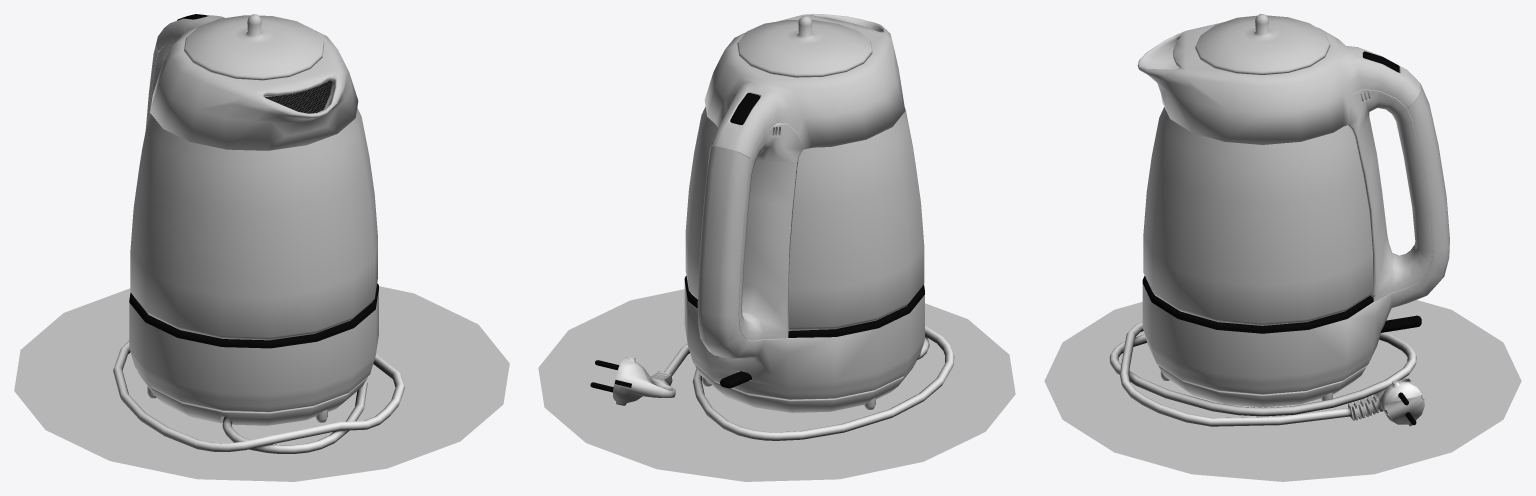
File: Kettle.obj
3 renders of one model, left to right at view 1: azimuth 30°, elevation 25°; view 2: azimuth 150°, elevation 25°; view 3: azimuth 270°, elevation 25°, orthographic. The views are drawn at different scales.
Parts seen in each view (by area): view 1: Glass, Floor, Body, Cap, Cable, Stand, Ring, Filter; view 2: Body, Floor, Glass, Cap, Cable, Stand, Ring, Switchs; view 3: Body, Floor, Glass, Cable, Cap, Stand, Ring, Switchs.
Boxes of the visible parts, box(x1,y1,x2,y2) form: Glass: box(130, 108, 377, 340); Floor: box(14, 286, 509, 481); Body: box(129, 15, 378, 412); Cap: box(184, 14, 324, 80); Cable: box(113, 340, 404, 453); Stand: box(137, 371, 367, 425); Ring: box(129, 283, 378, 348); Filter: box(265, 80, 334, 113); Body: box(684, 14, 924, 399); Floor: box(538, 289, 1015, 481); Glass: box(685, 106, 924, 330); Cap: box(737, 16, 872, 77); Cable: box(590, 325, 954, 440); Stand: box(695, 360, 917, 412); Ring: box(684, 276, 924, 337); Switchs: box(720, 93, 759, 388); Body: box(1137, 22, 1449, 394); Floor: box(1044, 300, 1521, 481); Glass: box(1143, 107, 1372, 325); Cable: box(1109, 322, 1424, 426); Cap: box(1195, 14, 1330, 74); Stand: box(1158, 365, 1366, 407); Ring: box(1142, 276, 1373, 333); Switchs: box(1363, 51, 1421, 332).
Size of the model in its own units: 400 by 331 by 400.
